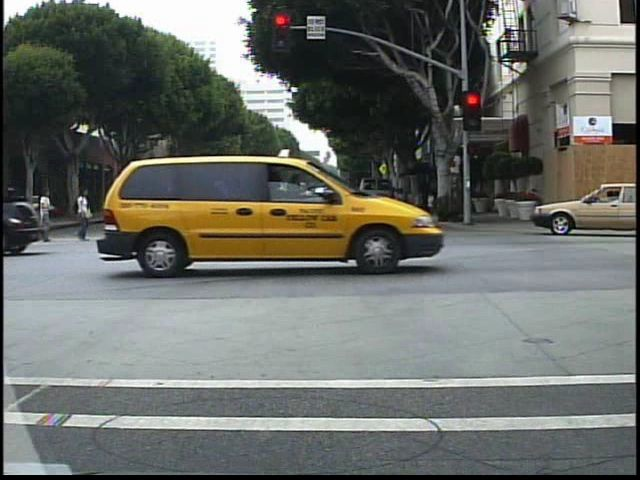person: (280, 170, 307, 237), (69, 184, 99, 244), (160, 172, 186, 239), (214, 179, 240, 237), (35, 189, 60, 243), (187, 183, 210, 237), (112, 185, 135, 238)
